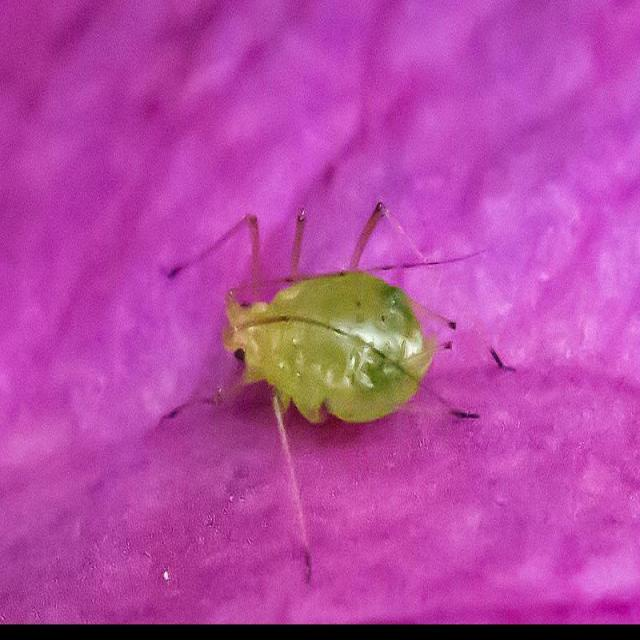Aphids: (160, 185, 510, 550)
